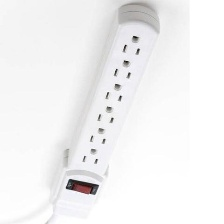three_eye_plug: (45, 1, 162, 223)
